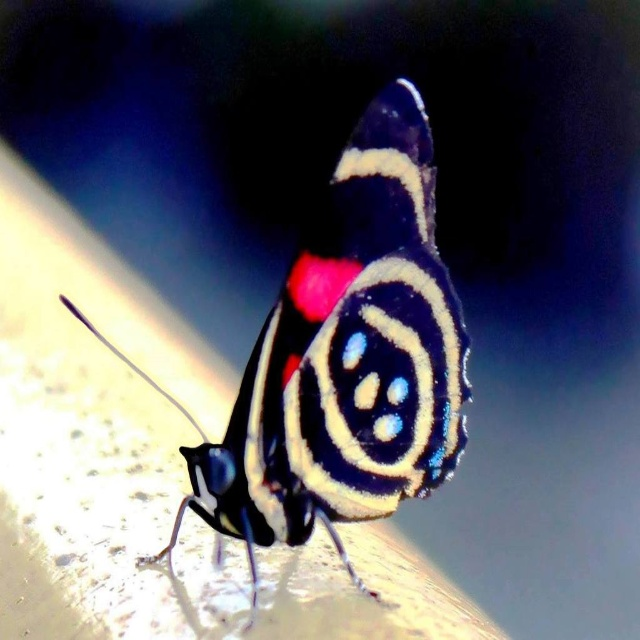Butterfly: (35, 100, 474, 640)
